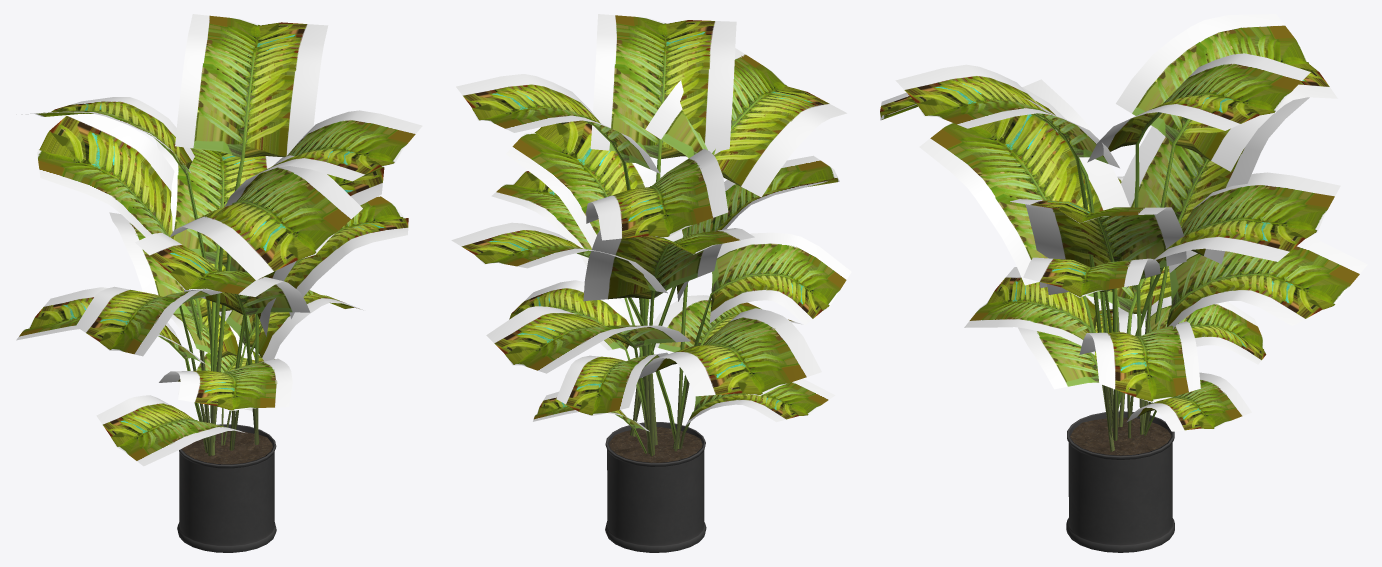
The model's file is Plant_Palm.fbx.
The picture shows the model from 3 angles, left to right: view 1: azimuth 30°, elevation 25°; view 2: azimuth 150°, elevation 25°; view 3: azimuth 270°, elevation 25°; orthographic projection. The views are drawn at different scales.
Visible parts, largest first — view 1: Palm_Plant; view 2: Palm_Plant; view 3: Palm_Plant.
Part boxes in pixels (bbox=[...]): Palm_Plant: bbox=[16, 14, 422, 552]; Palm_Plant: bbox=[451, 14, 851, 552]; Palm_Plant: bbox=[880, 14, 1367, 552].
Bounding box in the file's own units: 144 × 176 × 160.
